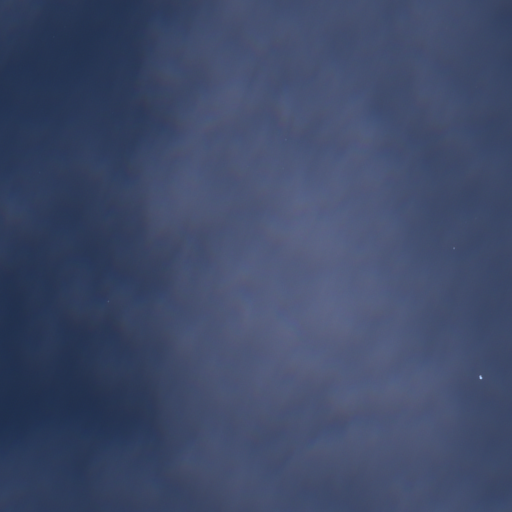Iceberg: (479, 375, 482, 379), (453, 247, 454, 249)
